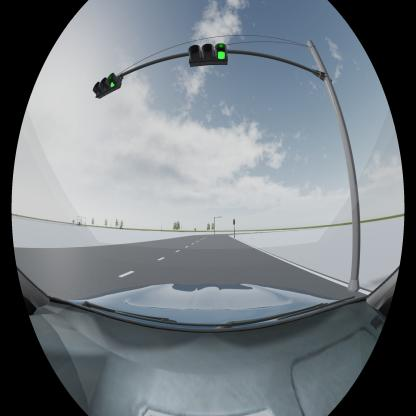Green Light: (188, 43, 229, 68), (92, 74, 123, 95)
